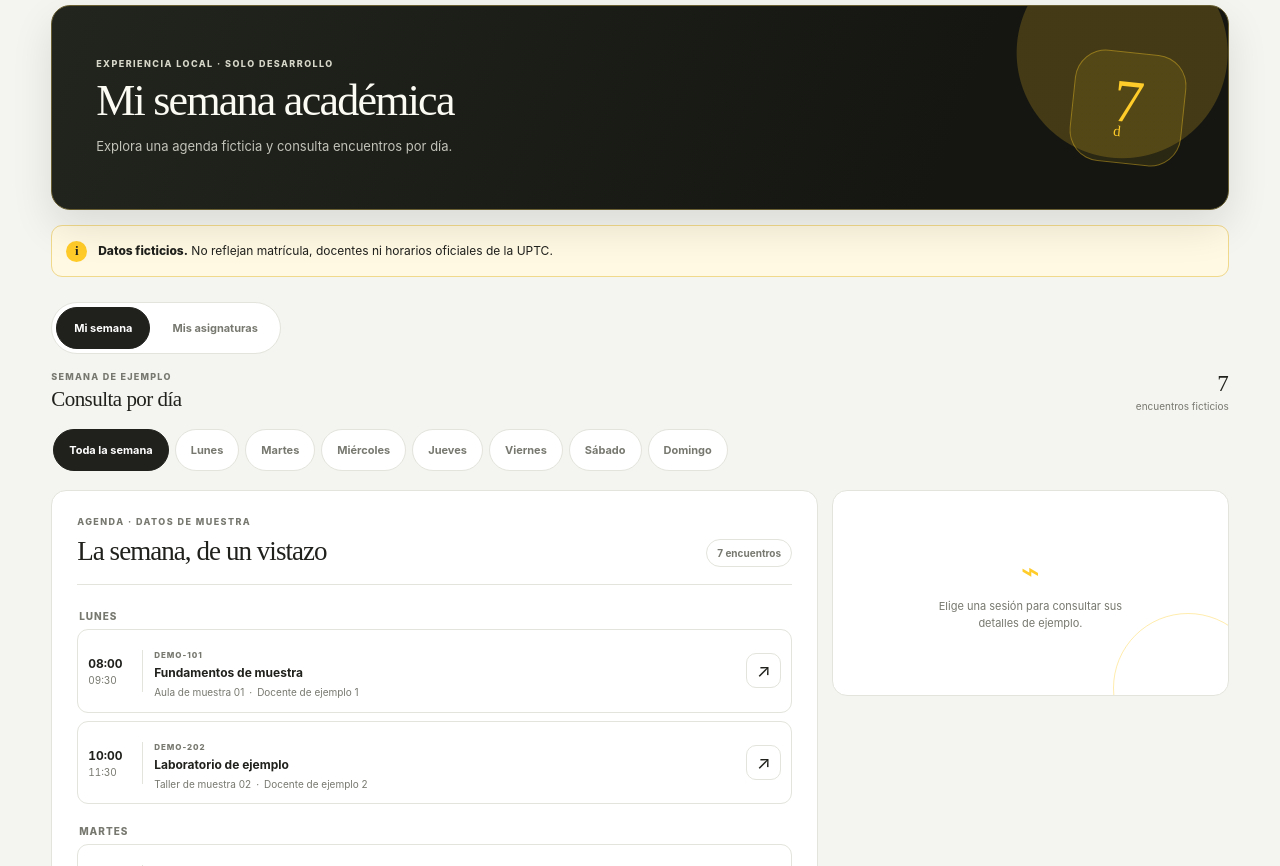
Scenario: MyAcademicWeekDemo › groups repeated meetings under one sample subject and shows every meeting in its detail
The width and height of the screenshot is (1280, 866).
Click the button "Mis asignaturas".
click(215, 328)  # box [154,307,276,349]
(page scrolled)
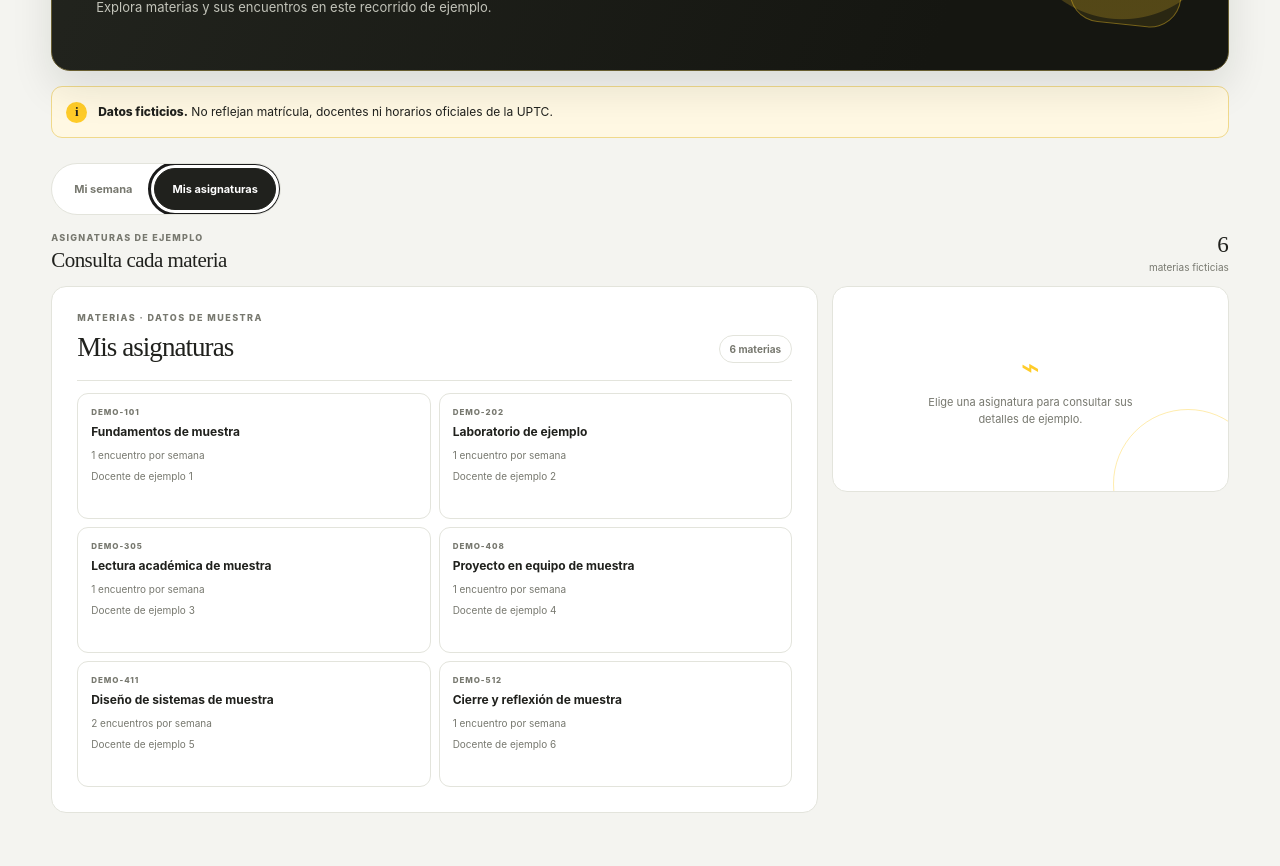
Check: the number of buttons named "ver asignatura" is 6
Click the button "Diseño de sistemas de muestra".
click(115, 680)  # box [77,661,431,787]
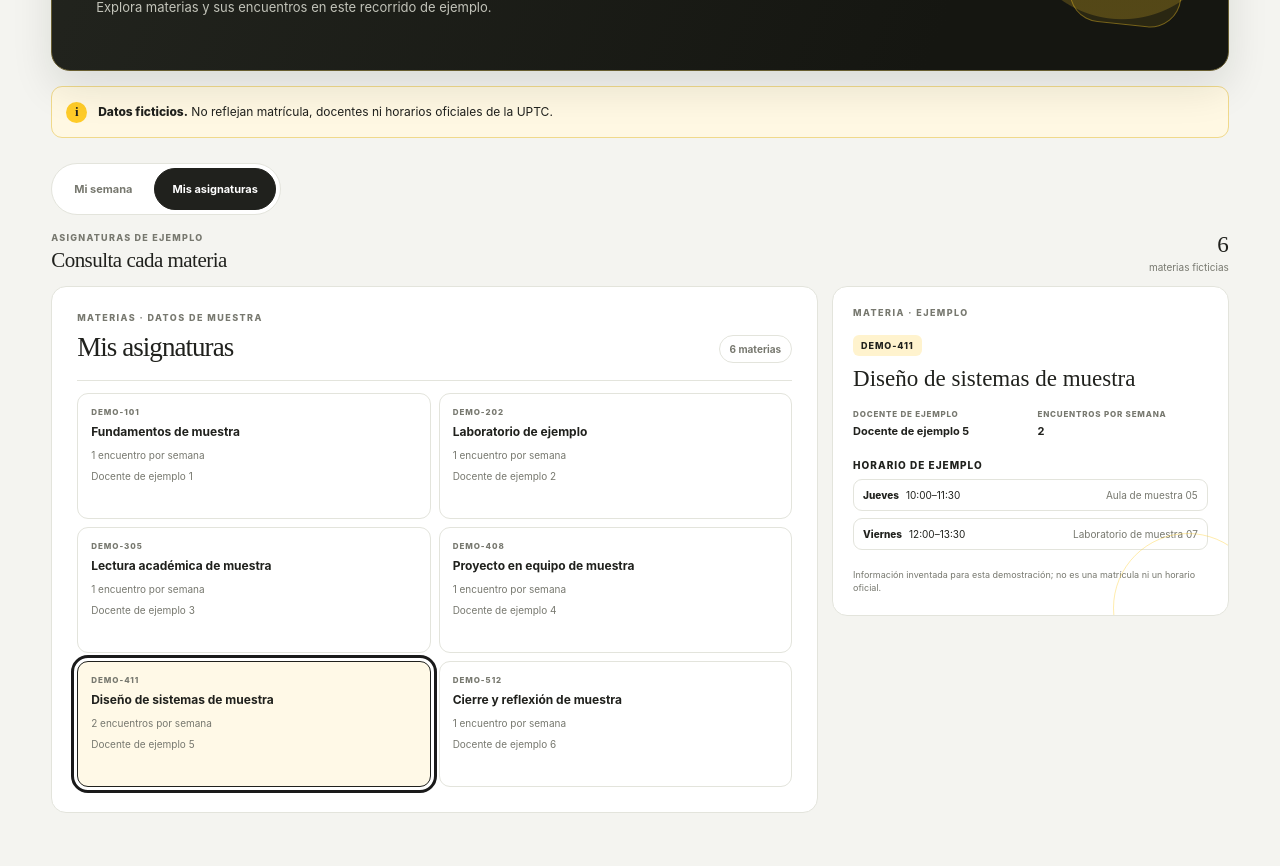
Check: the heading "Diseño de sistemas de muestra" is shown, box [853,366,1135,391]
Check: the list item "Jueves 10:00–11:30 Aula de muestra 05" is shown, box [853,479,1208,511]
Check: the list item "Viernes 12:00–13:30 Laboratorio de muestra 07" is shown, box [853,518,1208,550]
